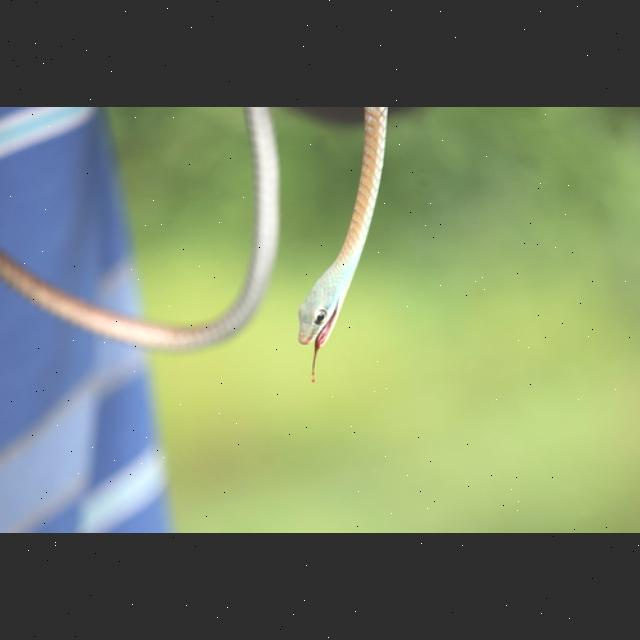snake: (254, 107, 414, 400)
